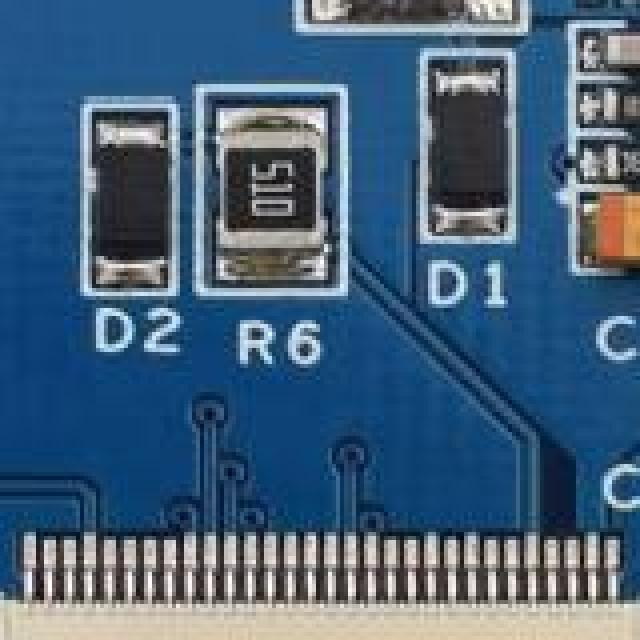capacitor: (588, 188, 640, 268), (588, 12, 640, 68)
connector: (0, 576, 640, 640)
diode: (84, 124, 190, 306), (424, 44, 516, 240)
inductor: (304, 0, 528, 20)
resistor: (208, 96, 328, 284), (592, 80, 640, 136), (596, 144, 640, 184)
